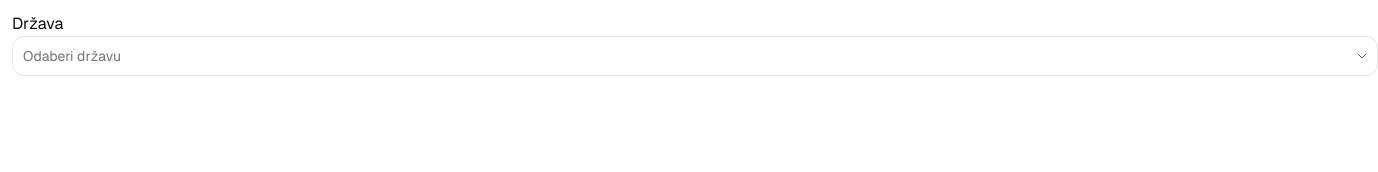
Test case: CountryCombobox › shows the flag, the name and the code
The width and height of the screenshot is (1378, 172).
Type "Hrvat" into the dropdown labelled "Država" at (681, 56), box 13,36 -> 1350,76
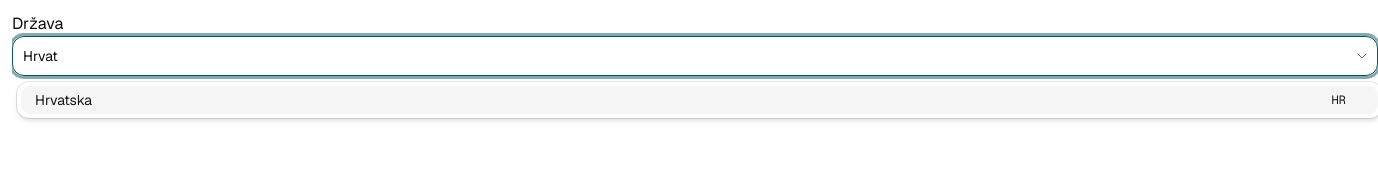
Expected: the option reads "Hrvatska HR", 21,86 -> 1377,114
